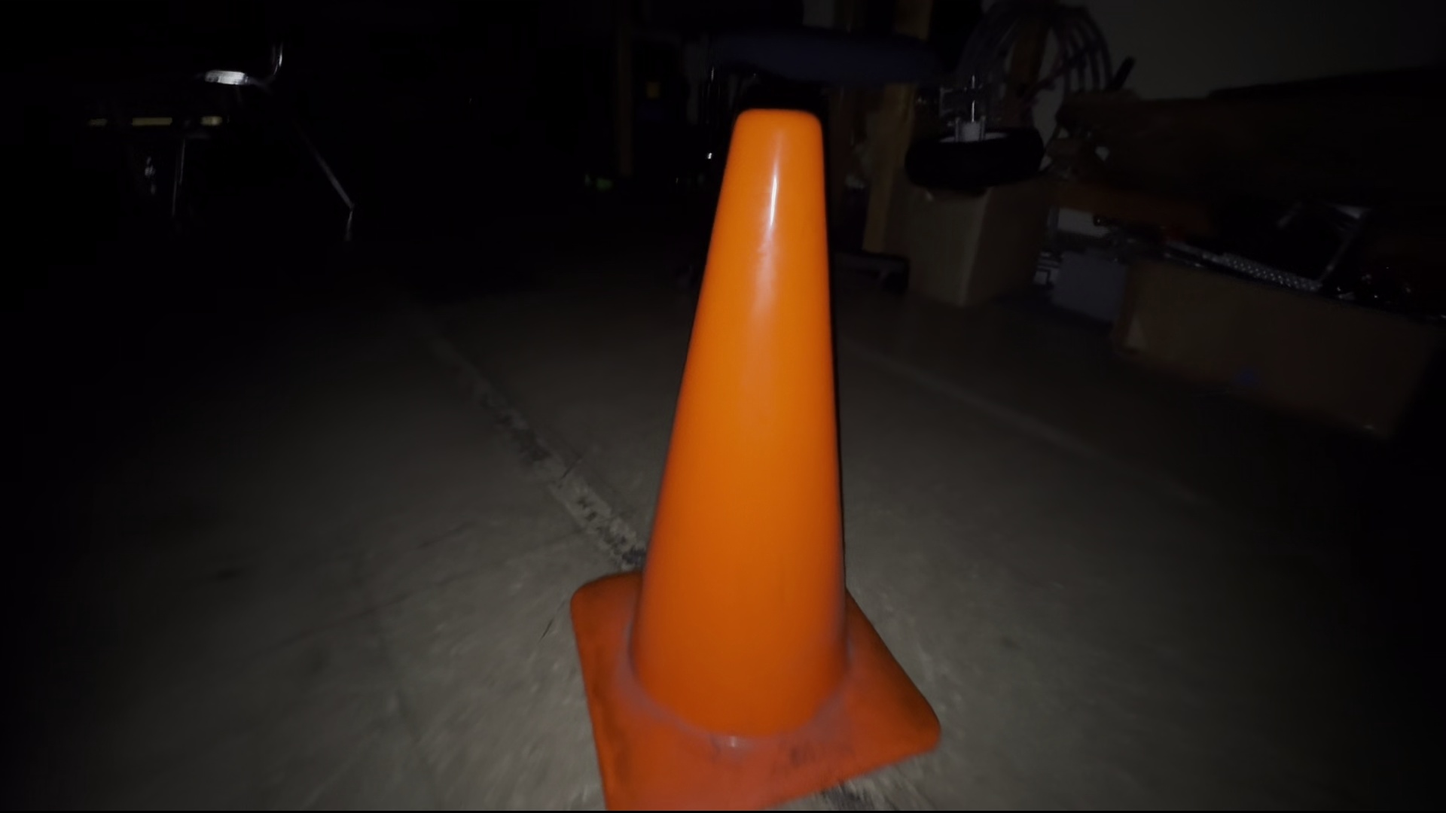traffic_cone: (569, 106, 942, 811)
